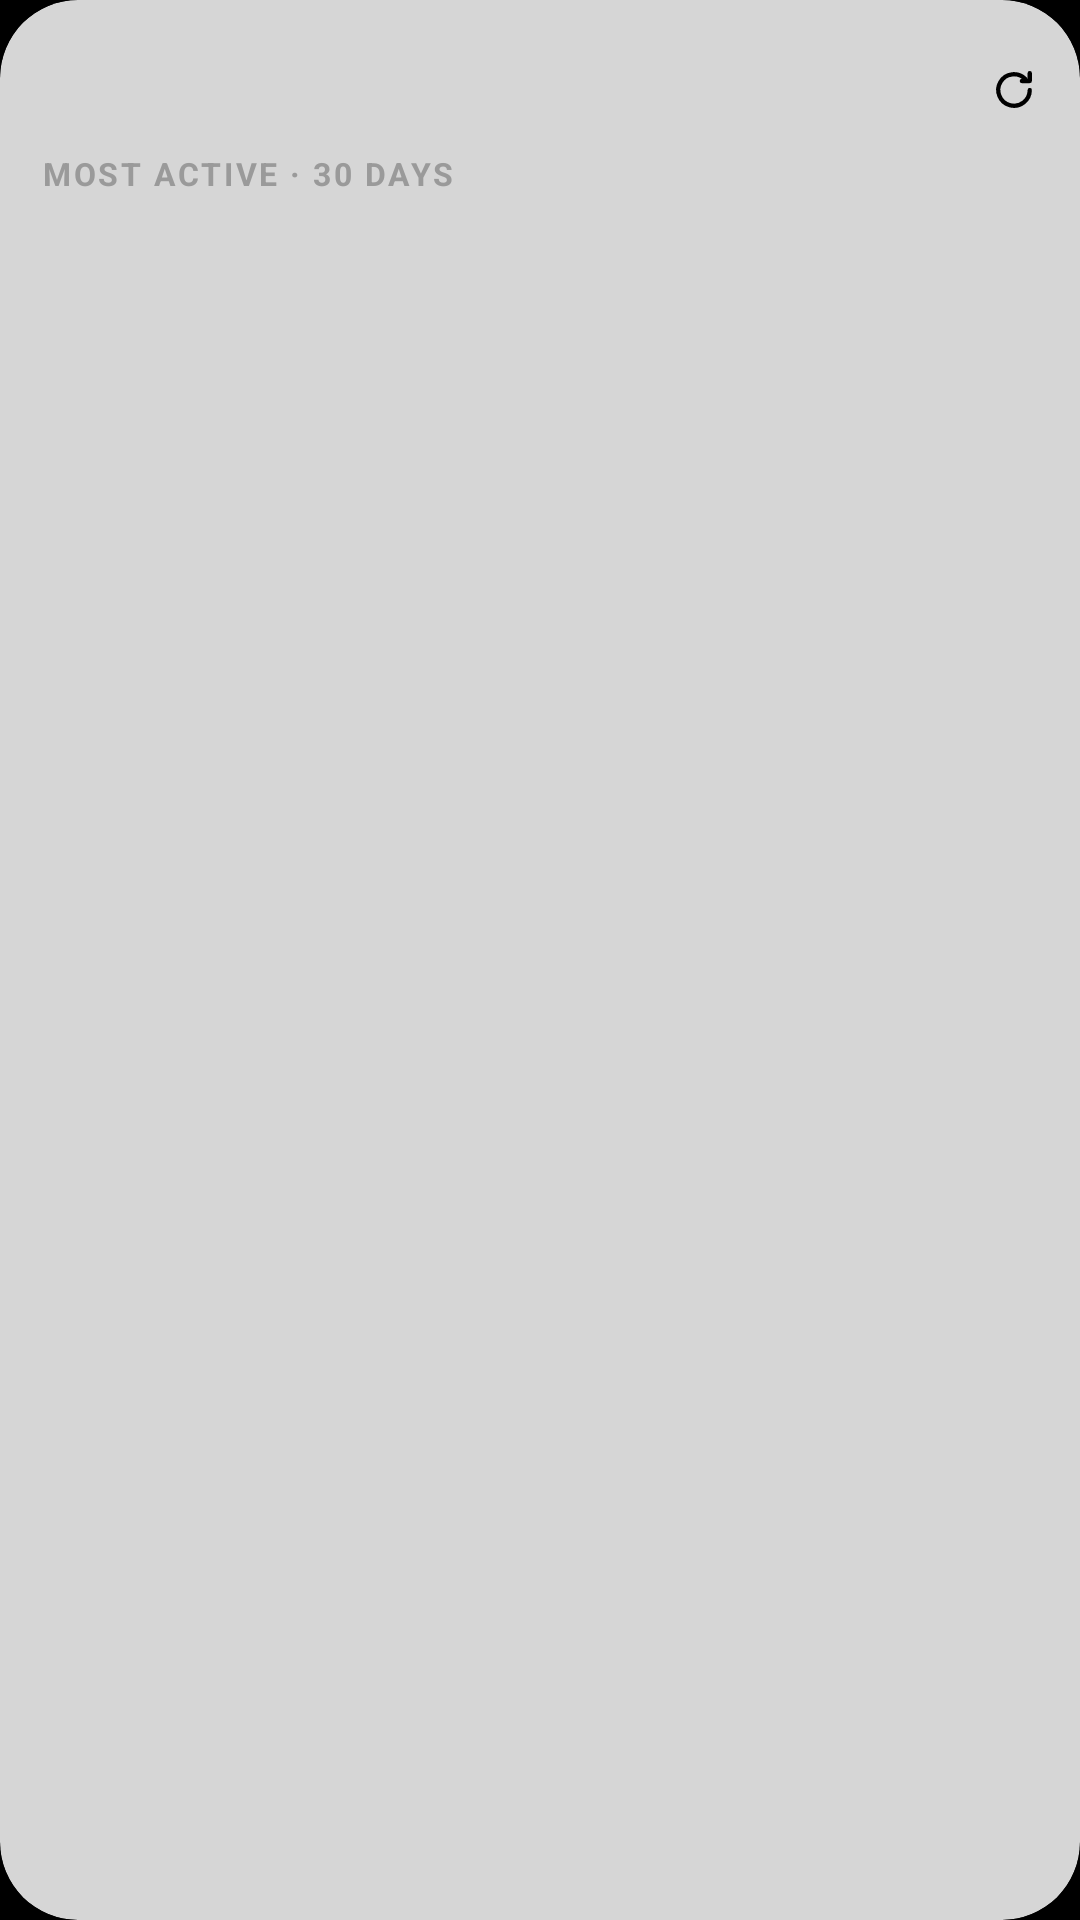

Named icons in this screenshot (1080 x 1920) and their centers, (x,y):
Check for news now: (1014,89)
